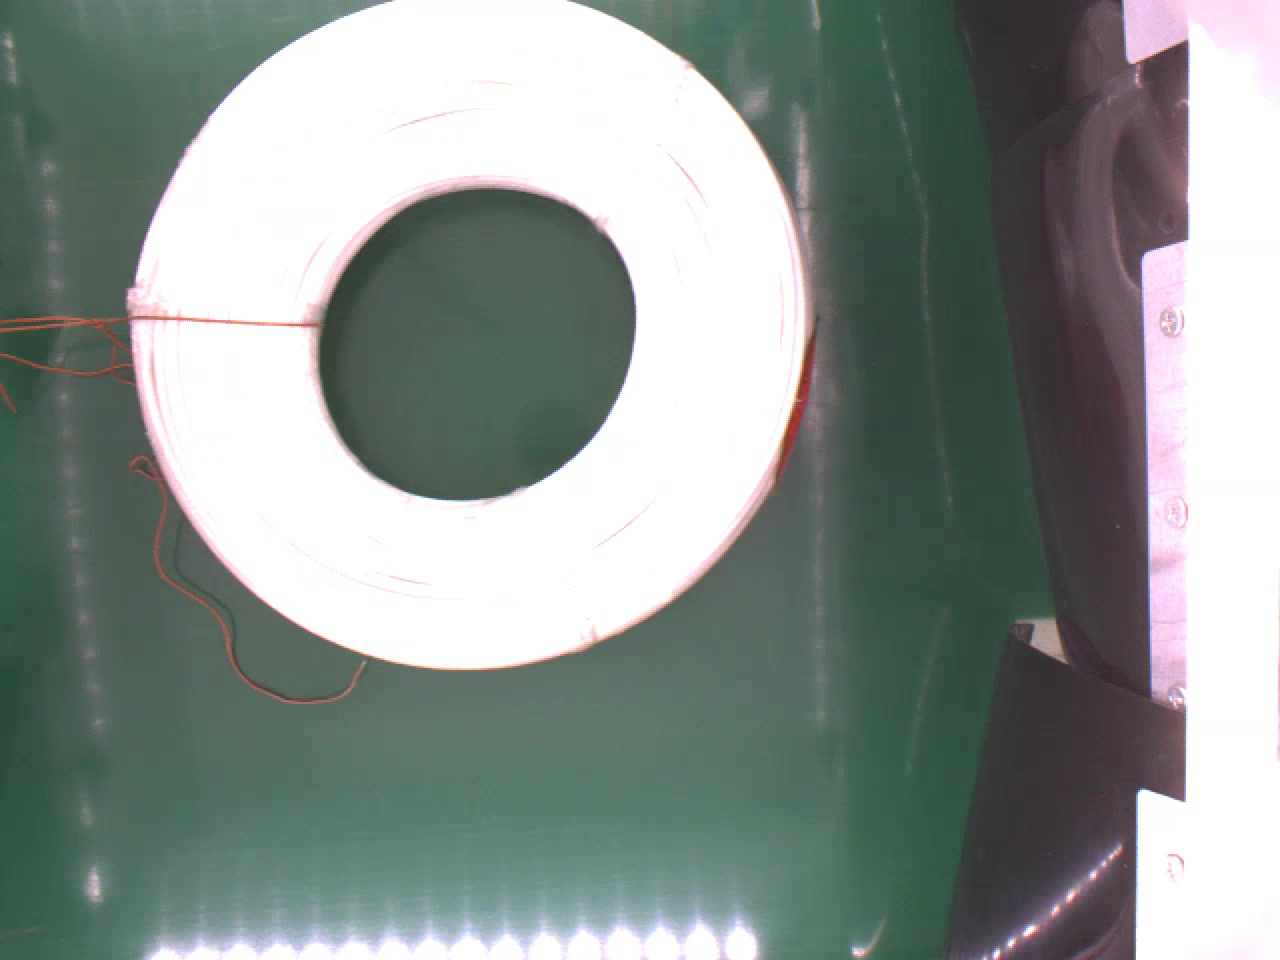white: (129, 0, 805, 671)
